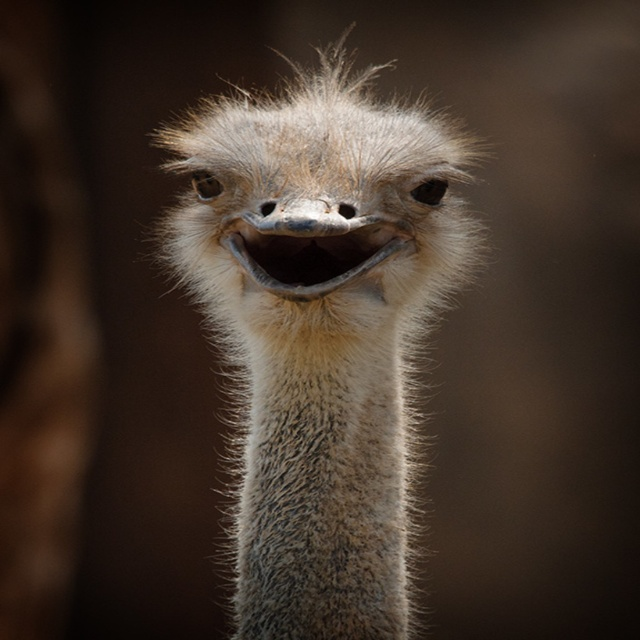Ostrich: (156, 49, 480, 636)
